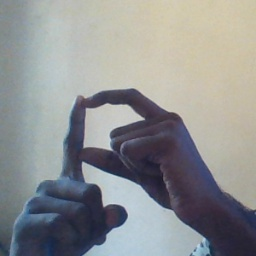D: (51, 83, 179, 212)
